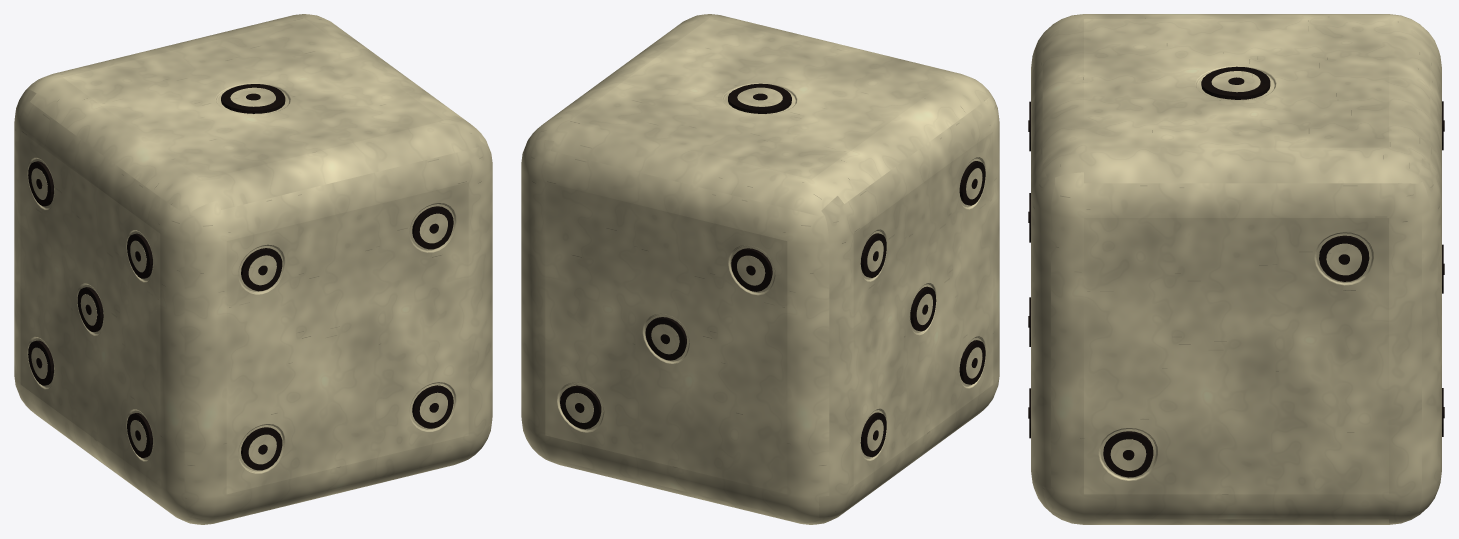
Rendered from ivory-bone.glb.
3 views of the same model, side by side, from view 1: azimuth 30°, elevation 25°; view 2: azimuth 150°, elevation 25°; view 3: azimuth 270°, elevation 25° (orthographic). The views are drawn at different scales.
Visible parts, largest first — view 1: MM_Die_ivory-bone; view 2: MM_Die_ivory-bone; view 3: MM_Die_ivory-bone.
Boxes of the visible parts, x1,y1,x2,y2 form: MM_Die_ivory-bone: [14, 14, 492, 524]; MM_Die_ivory-bone: [521, 14, 999, 524]; MM_Die_ivory-bone: [1028, 14, 1444, 524].
Bounding box in the file's own units: 0.0299 × 0.0299 × 0.0299.
2 materials, 2 textured.
